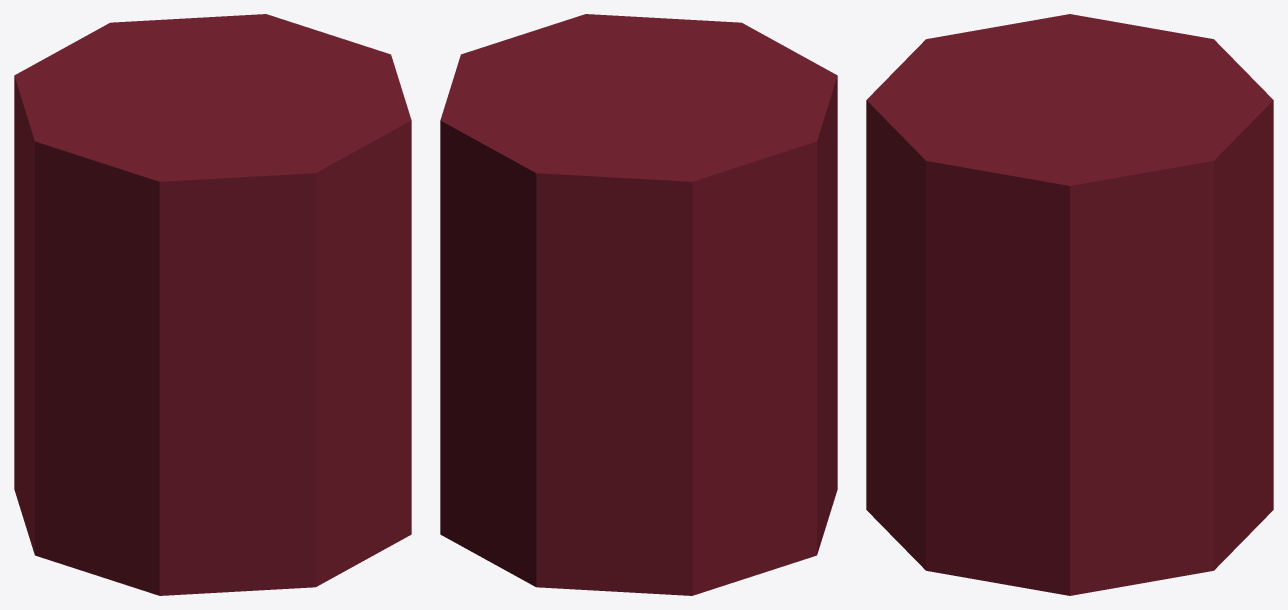
The model's file is pillar_middle_001_msh.fbx.
The picture shows the model from 3 angles, left to right: view 1: azimuth 30°, elevation 25°; view 2: azimuth 150°, elevation 25°; view 3: azimuth 270°, elevation 25°; orthographic projection.
Parts seen in each view (by area): view 1: pillar_middle_001_msh; view 2: pillar_middle_001_msh; view 3: pillar_middle_001_msh.
Boxes of the visible parts, x1,y1,x2,y2 form: pillar_middle_001_msh: (14,14,411,595); pillar_middle_001_msh: (440,14,837,595); pillar_middle_001_msh: (866,14,1273,595).
Bounding box in the file's own units: 90 × 100 × 90.
